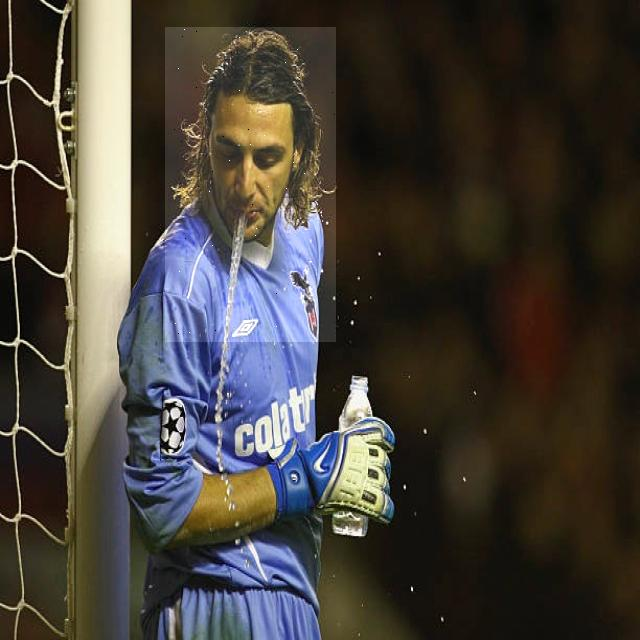Spitting: (165, 27, 336, 342)
